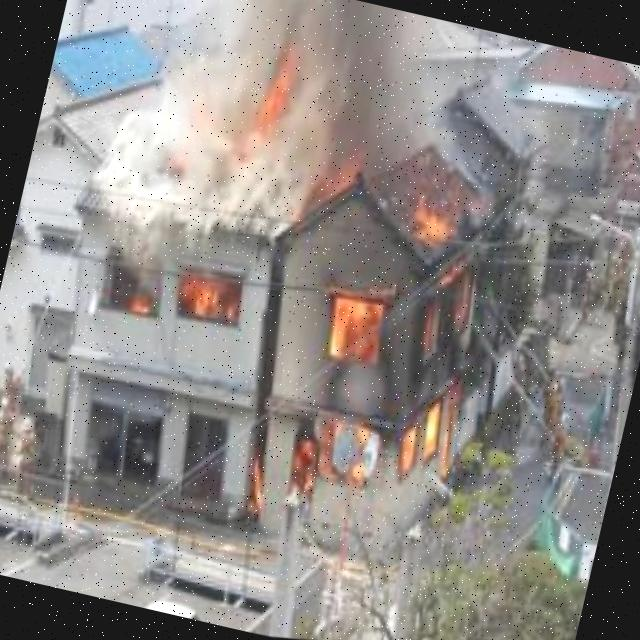fire: (239, 133, 533, 526), (119, 250, 239, 335), (233, 38, 316, 156)
